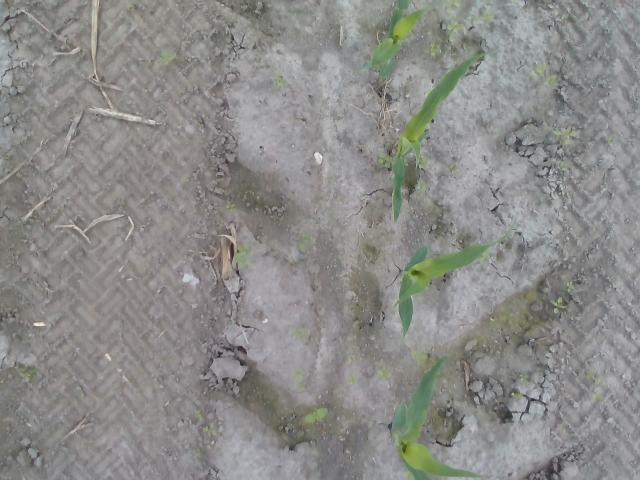Maize: (390, 54, 492, 226), (384, 353, 486, 480), (397, 236, 507, 338), (361, 0, 436, 83)
Weeds: (193, 410, 217, 438), (534, 64, 560, 86), (301, 404, 329, 423), (298, 232, 318, 254), (232, 245, 250, 267), (552, 125, 577, 140), (425, 42, 443, 59), (477, 11, 498, 25), (550, 296, 566, 313), (294, 368, 306, 390), (444, 20, 464, 33), (414, 350, 430, 366), (19, 368, 34, 384), (161, 50, 178, 63), (376, 152, 391, 166), (377, 368, 394, 380), (448, 161, 462, 175), (444, 0, 462, 9), (518, 372, 531, 384), (418, 156, 429, 170), (564, 280, 575, 293), (510, 390, 522, 400), (224, 200, 236, 210)
